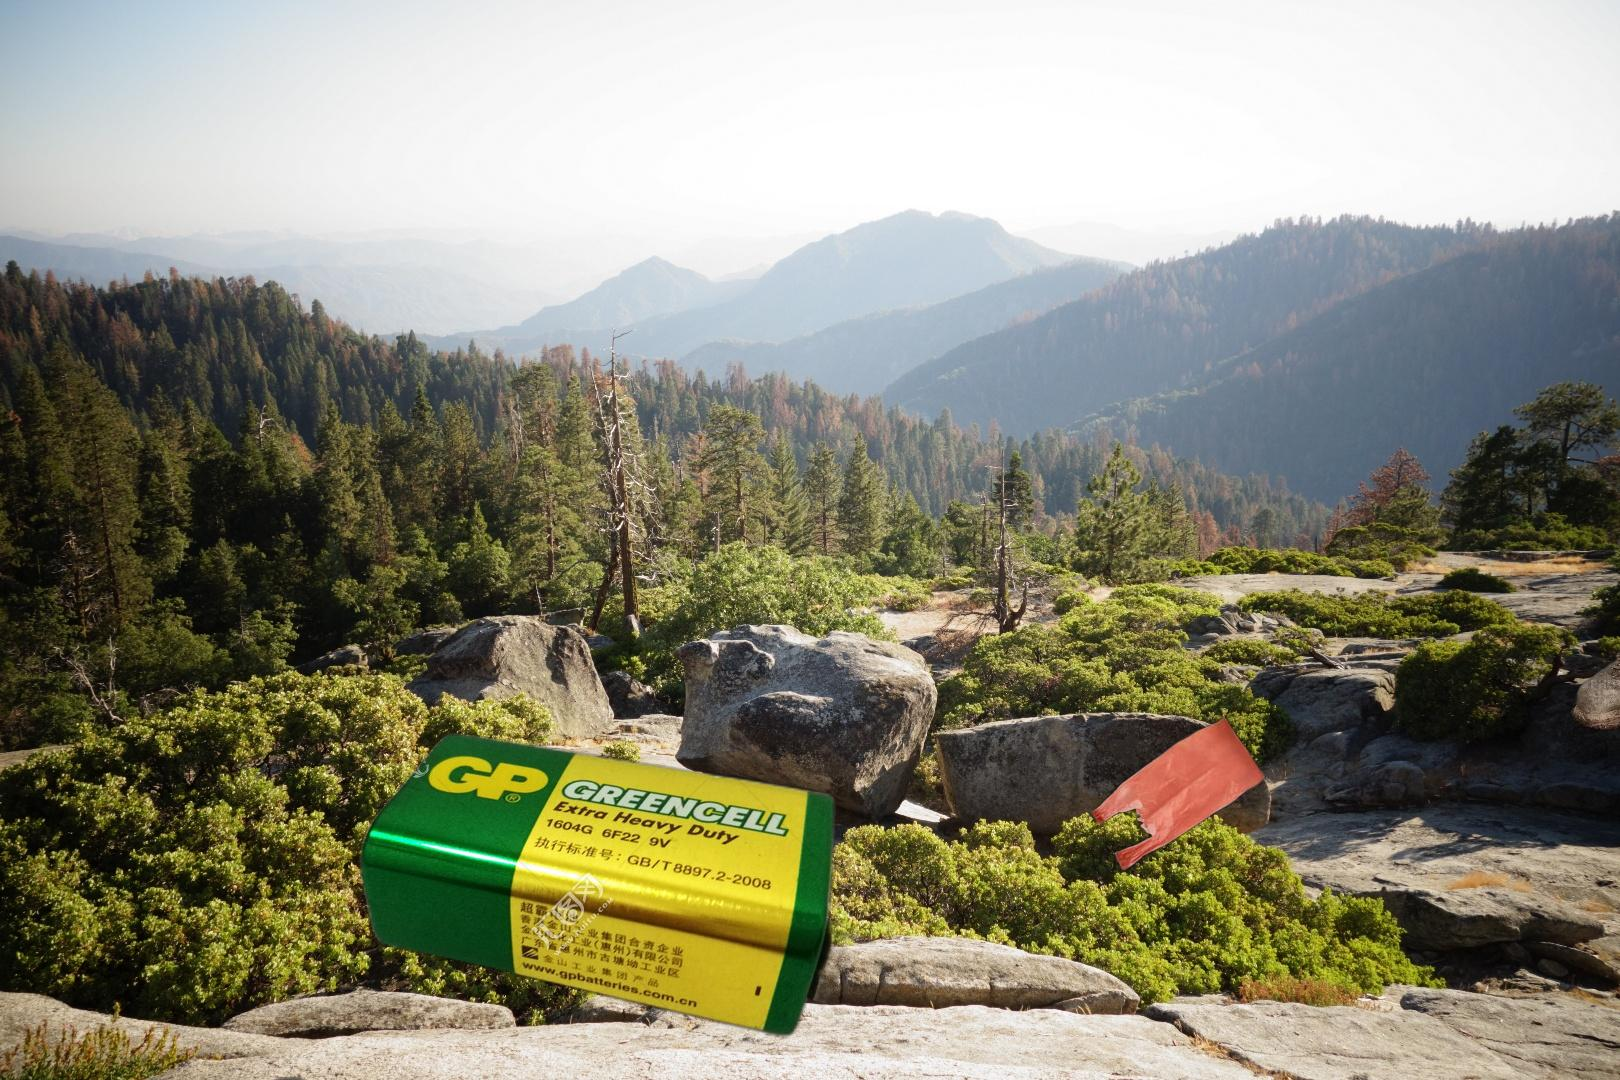battery: (352, 728, 856, 1041)
glass: (102, 1075, 341, 1080)
plastic-bag: (1087, 705, 1373, 1005)
shoes: (1565, 593, 1620, 752)
